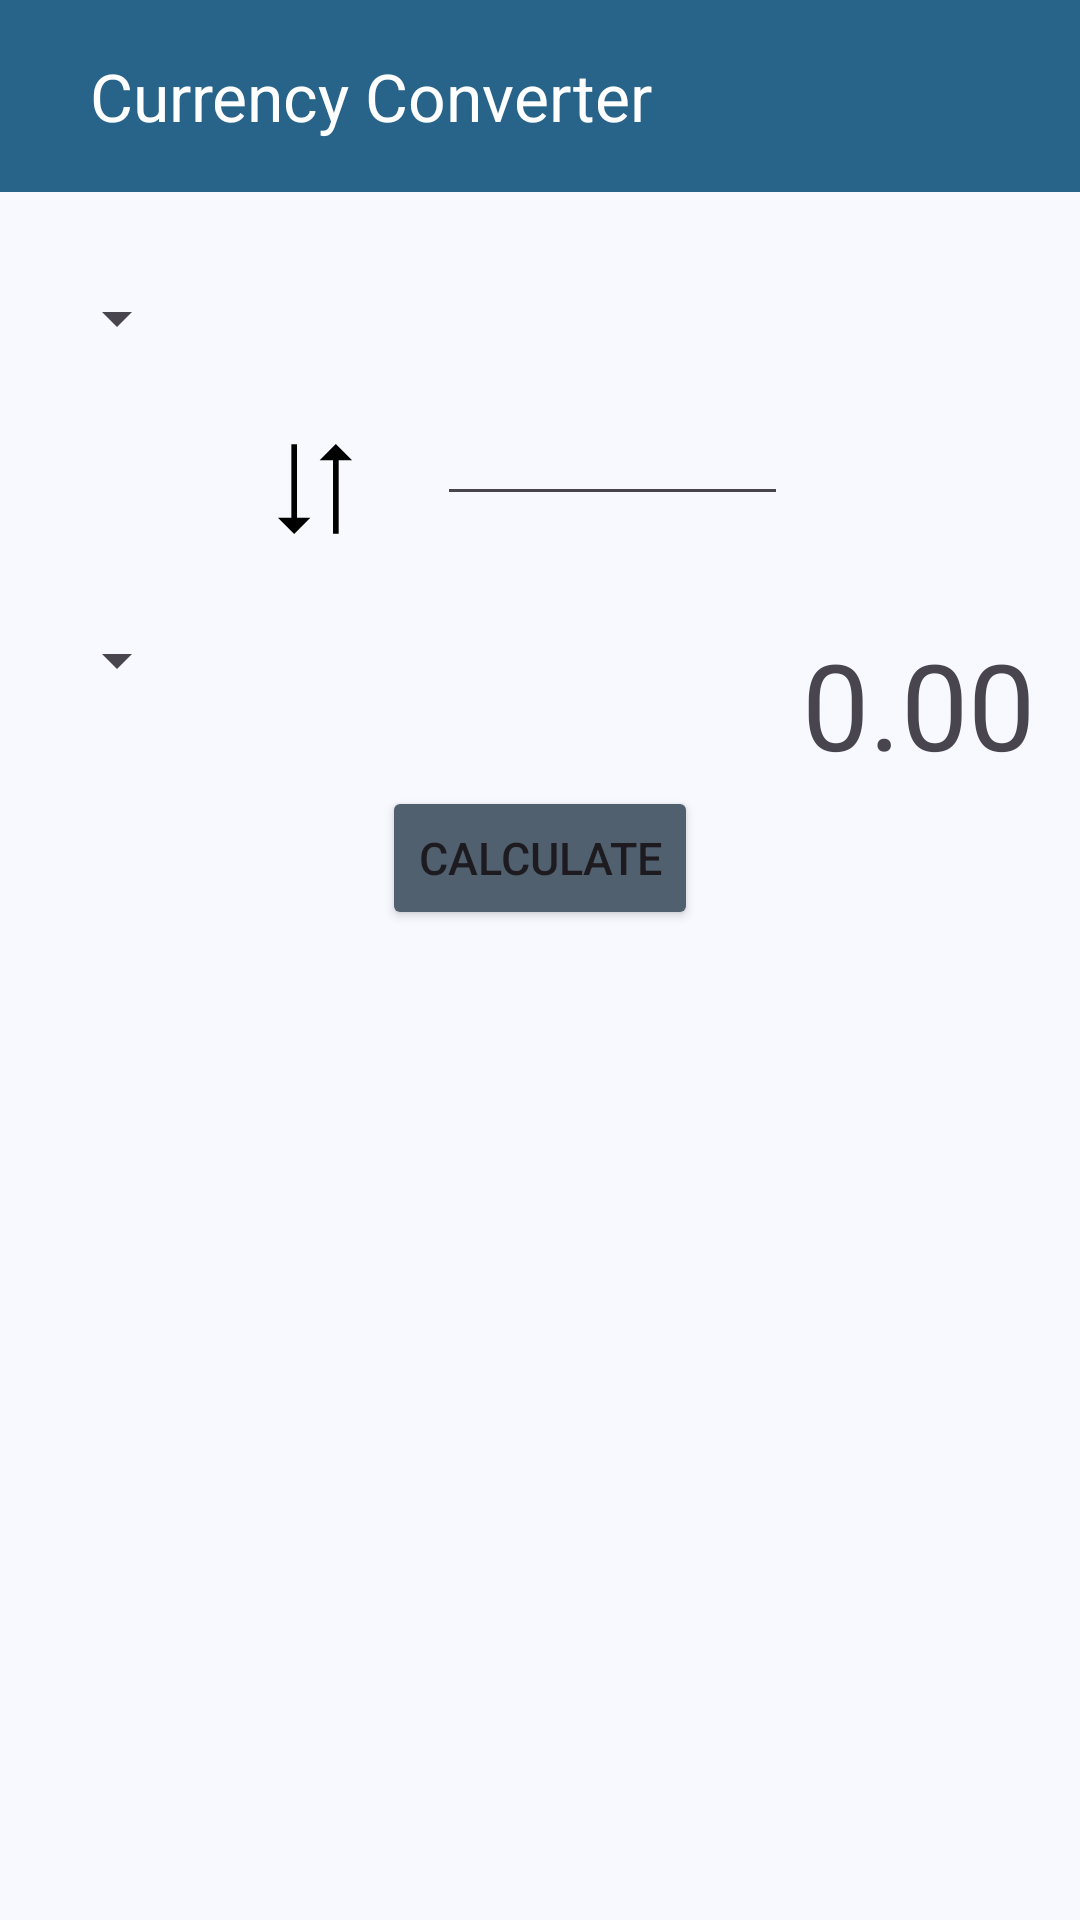

Point at icon controls on the screen. Image size 1080 x 1920, points as [x,y].
exchange: [315,489]
